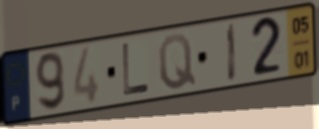2: (247, 14, 287, 83)
4: (72, 44, 104, 108)
9: (33, 51, 68, 114)
I: (226, 21, 239, 85)
L: (121, 41, 152, 98)
Q: (156, 32, 198, 93)
